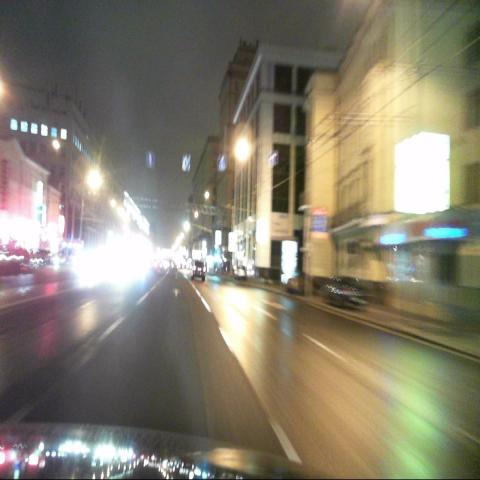5_15_2: (146, 151, 156, 168), (269, 150, 278, 167), (218, 155, 226, 171)
